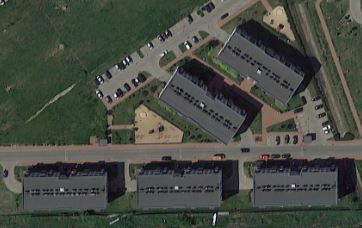block of flats: (155, 63, 249, 147), (213, 22, 307, 106), (251, 163, 340, 210), (133, 166, 222, 213), (20, 167, 109, 214)
